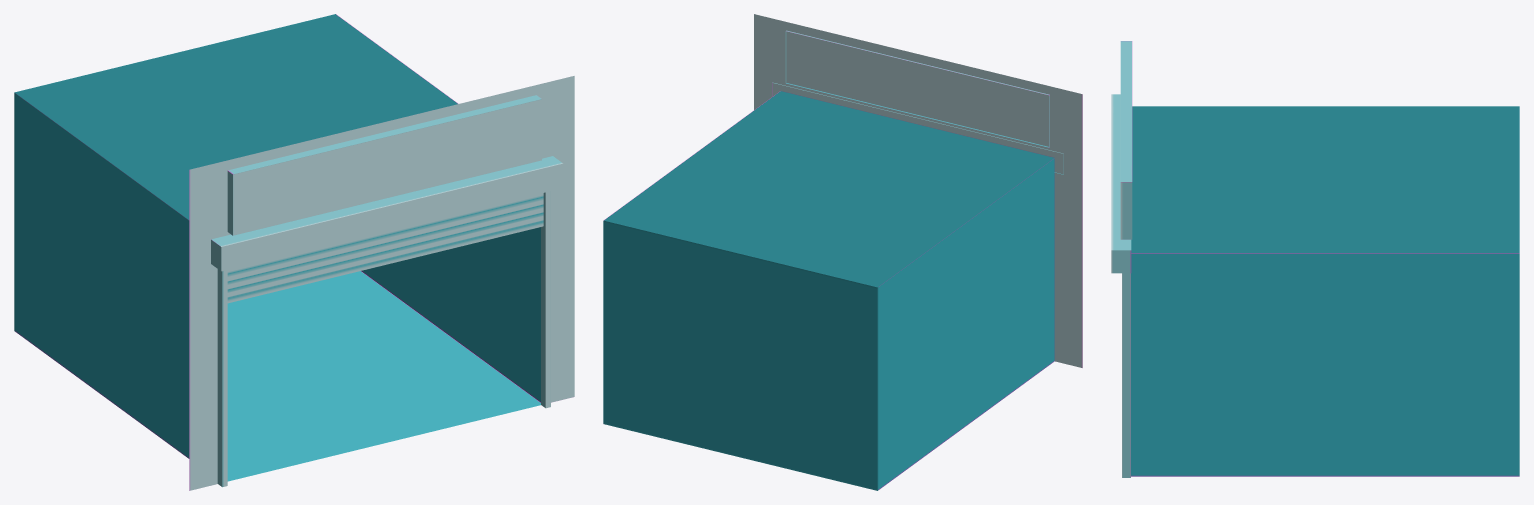
Rendered from SM_SoL_environment_shop.fbx.
3 views of the same model, side by side, from view 1: azimuth 30°, elevation 25°; view 2: azimuth 150°, elevation 25°; view 3: azimuth 270°, elevation 25° (orthographic). The views are drawn at different scales.
Parts seen in each view (by area): view 1: store; view 2: store; view 3: store.
Part boxes in pixels (x1,y1,x2,y2): store: (14,14,574,490); store: (603,14,1082,490); store: (1111,41,1519,477).
Size of the model in its own units: 800 by 637 by 784.
